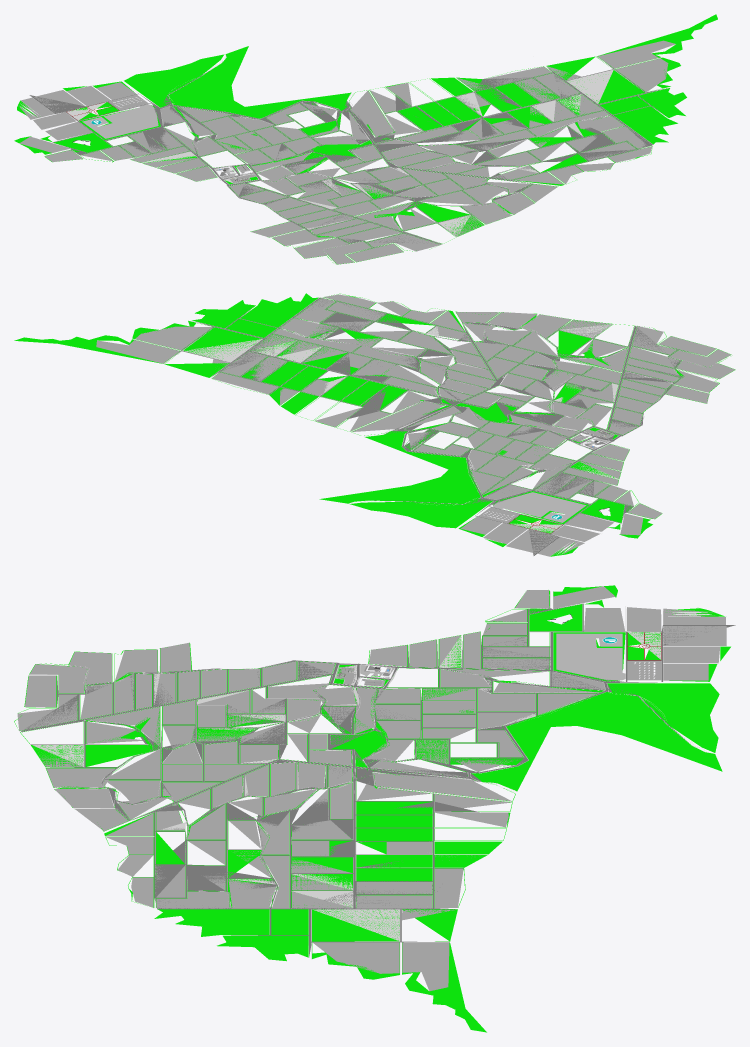
Rendered from Kantor_dan_RS.glb.
3 renders of one model, top to bottom at view 1: azimuth 30°, elevation 25°; view 2: azimuth 150°, elevation 25°; view 3: azimuth 270°, elevation 25°, orthographic. The views are drawn at different scales.
Visible parts, largest first — view 1: Model_Zonasi_Clean; view 2: Model_Zonasi_Clean; view 3: Model_Zonasi_Clean.
Boxes of the visible parts, x1,y1,x2,y2 form: Model_Zonasi_Clean: (14, 14, 717, 264); Model_Zonasi_Clean: (14, 293, 735, 556); Model_Zonasi_Clean: (14, 585, 735, 1032).
Bounding box in the file's own units: 3 × 0.012 × 2.05.
Materials: 55 (12 with a texture image).
